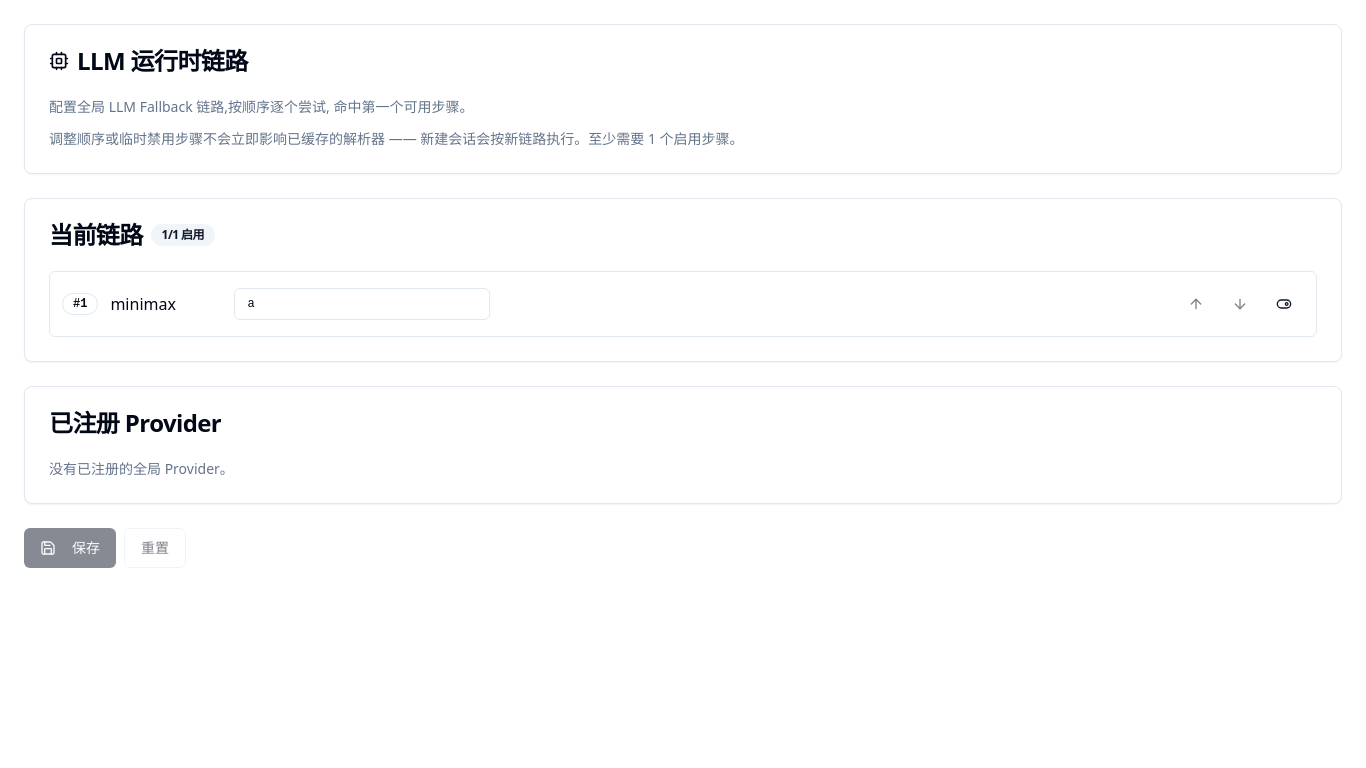
AdminLlmChainPage (Tier 3 Task 3.4) › toggles a step on/off
The width and height of the screenshot is (1366, 768).
Expected: the list item with test id "chain-row-minimax" is shown, [49, 271, 1317, 337]
Expected: the text with test id "enabled-count" shows "1/1", [151, 224, 215, 246]
Click the button with test id "chain-toggle-minimax" at (1284, 304), box [1264, 284, 1304, 324]
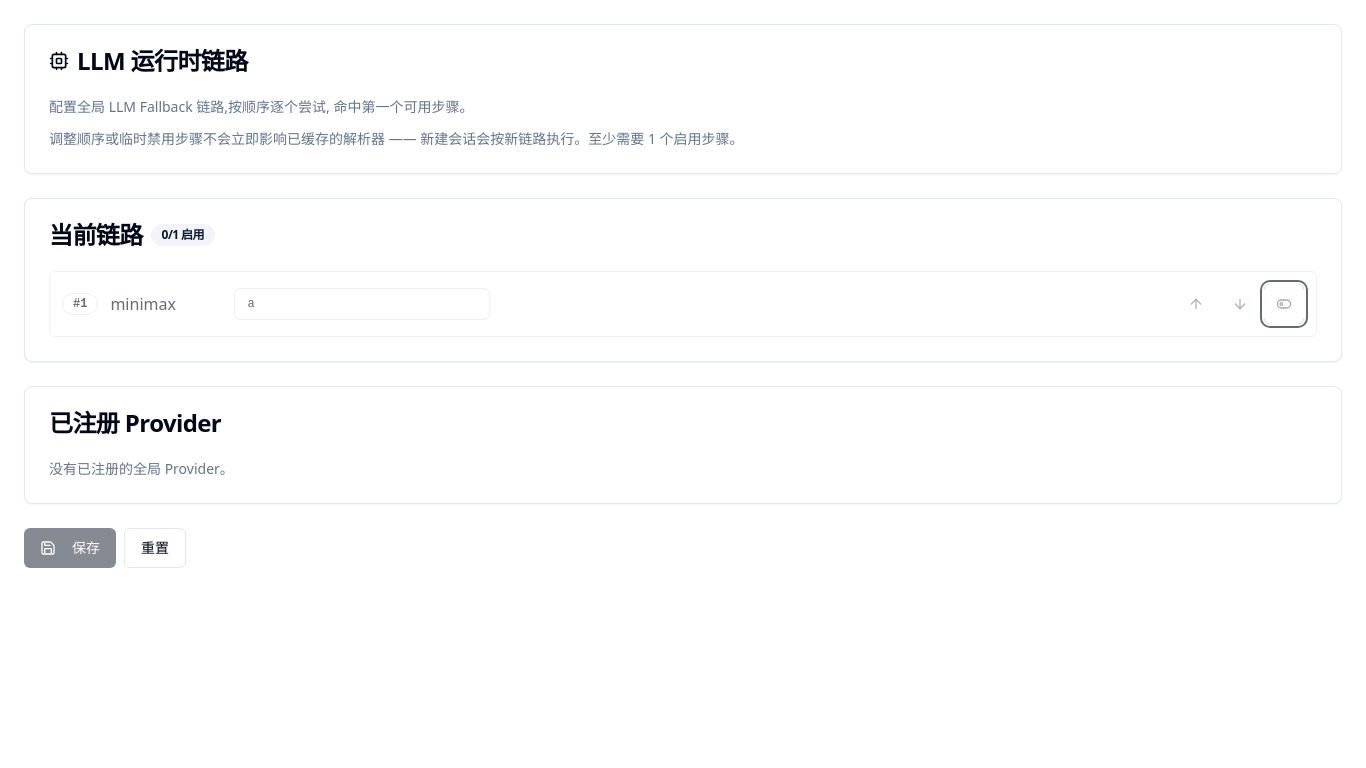
Expected: the button with test id "chain-save" is disabled, [24, 528, 116, 568]
Expected: the text with test id "enabled-count" shows "0/1", [151, 224, 215, 246]
